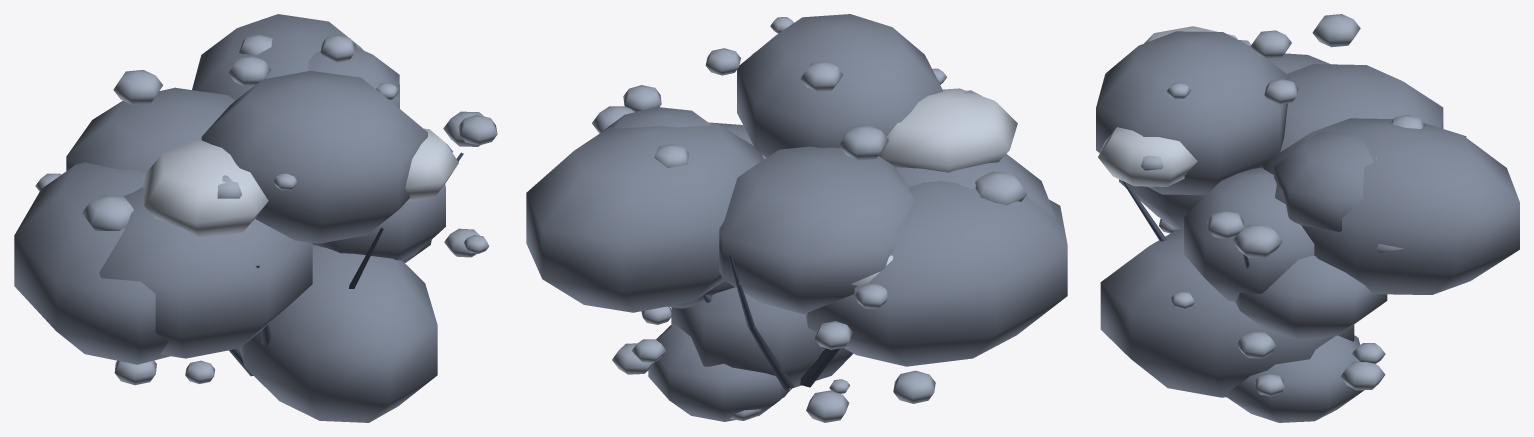
File: 开花灌木.glb
3 renders of one model, left to right at view 1: azimuth 30°, elevation 25°; view 2: azimuth 150°, elevation 25°; view 3: azimuth 270°, elevation 25°, orthographic. The views are drawn at different scales.
Visible parts, largest first — view 1: garden-shrub-flowering-leaf, garden-shrub-flowering-light, garden-shrub-flowering-accent, garden-shrub-flowering-branch; view 2: garden-shrub-flowering-leaf, garden-shrub-flowering-accent, garden-shrub-flowering-light, garden-shrub-flowering-branch; view 3: garden-shrub-flowering-leaf, garden-shrub-flowering-accent, garden-shrub-flowering-light, garden-shrub-flowering-branch.
Part boxes in pixels (box(x1,y1,x2,y2)): garden-shrub-flowering-leaf: box(14, 14, 445, 422); garden-shrub-flowering-light: box(142, 128, 458, 238); garden-shrub-flowering-accent: box(35, 34, 497, 385); garden-shrub-flowering-branch: box(229, 152, 463, 376); garden-shrub-flowering-leaf: box(526, 14, 1067, 421); garden-shrub-flowering-accent: box(592, 17, 1026, 422); garden-shrub-flowering-light: box(752, 52, 1017, 285); garden-shrub-flowering-branch: box(702, 254, 839, 390); garden-shrub-flowering-leaf: box(1096, 31, 1519, 422); garden-shrub-flowering-accent: box(1141, 14, 1425, 396); garden-shrub-flowering-light: box(1098, 26, 1237, 186); garden-shrub-flowering-branch: box(1121, 135, 1466, 268).
Size of the model in its own units: 1.05 by 0.8 by 0.9.
